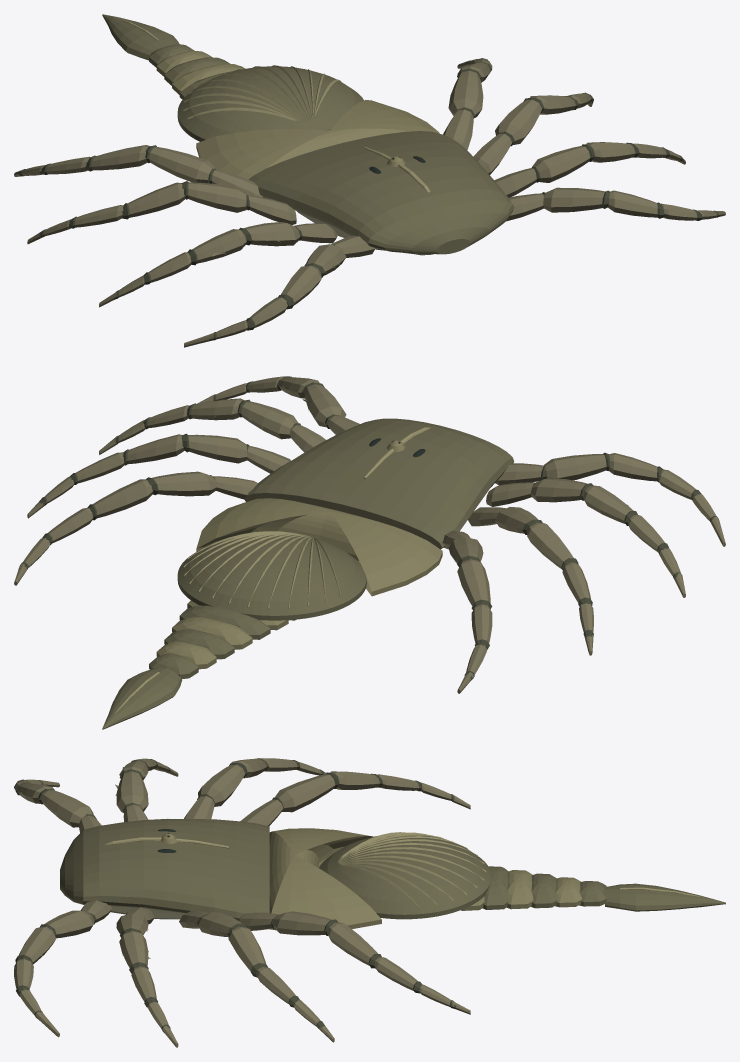
3 views of the same model, one above another, from view 1: azimuth 30°, elevation 25°; view 2: azimuth 150°, elevation 25°; view 3: azimuth 270°, elevation 25° (orthographic). The views are drawn at different scales.
Parts seen in each view (by area): view 1: Prosomal bell shield, T2 circular dorsal plate, T1 sutured leaf epimera, Limb L5 six podomeres, Limb L6 six podomeres, Limb L4 six podomeres, Limb R3 six podomeres, Limb L3 six podomeres, Limb R4 six podomeres, Limb R5 six podomeres, T2 thirteen embedded fan ribs, Limb R6 six podomeres (+4 smaller); view 2: Prosomal bell shield, T2 circular dorsal plate, T1 sutured leaf epimera, Limb R6 six podomeres, Limb R5 six podomeres, Limb L3 six podomeres, Limb L4 six podomeres, Limb R4 six podomeres, Limb L5 six podomeres, Limb L6 six podomeres, Limb R3 six podomeres, T2 thirteen embedded fan ribs (+6 smaller); view 3: Prosomal bell shield, T2 circular dorsal plate, T1 sutured leaf epimera, Limb R6 six podomeres, Limb L6 six podomeres, T2 thirteen embedded fan ribs, Limb R3 six podomeres, Limb R5 six podomeres, Limb R4 six podomeres, Limb L5 six podomeres, Inferred straight hastate telson, Limb L3 six podomeres (+6 smaller).
Boxes of the visible parts, <box> form: Prosomal bell shield: <box>248,131,514,254</box>; T2 circular dorsal plate: <box>177,66,363,141</box>; T1 sutured leaf epimera: <box>196,100,439,179</box>; Limb L5 six podomeres: <box>27,182,296,244</box>; Limb L6 six podomeres: <box>14,145,262,197</box>; Limb L4 six podomeres: <box>99,222,337,307</box>; Limb R3 six podomeres: <box>506,187,725,221</box>; Limb L3 six podomeres: <box>184,235,375,347</box>; Limb R4 six podomeres: <box>494,142,685,197</box>; Limb R5 six podomeres: <box>473,93,593,174</box>; T2 thirteen embedded fan ribs: <box>183,65,340,121</box>; Limb R6 six podomeres: <box>443,58,492,149</box>; Prosomal bell shield: <box>244,418,514,549</box>; T2 circular dorsal plate: <box>177,534,366,620</box>; T1 sutured leaf epimera: <box>196,498,442,596</box>; Limb R6 six podomeres: <box>14,471,257,585</box>; Limb R5 six podomeres: <box>27,434,290,518</box>; Limb L3 six podomeres: <box>495,453,725,546</box>; Limb L4 six podomeres: <box>486,478,685,597</box>; Limb R4 six podomeres: <box>99,398,325,454</box>; Limb L5 six podomeres: <box>468,507,593,655</box>; Limb L6 six podomeres: <box>442,530,492,693</box>; Limb R3 six podomeres: <box>197,376,359,434</box>; T2 thirteen embedded fan ribs: <box>183,531,341,608</box>; Prosomal bell shield: <box>60,818,269,919</box>; T2 circular dorsal plate: <box>319,834,490,919</box>; T1 sutured leaf epimera: <box>269,828,381,930</box>; Limb R6 six podomeres: <box>237,911,470,1014</box>; Limb L6 six podomeres: <box>240,771,470,825</box>; T2 thirteen embedded fan ribs: <box>337,832,486,907</box>; Limb R3 six podomeres: <box>14,900,111,1037</box>; Limb R5 six podomeres: <box>179,910,334,1042</box>; Limb R4 six podomeres: <box>116,907,178,1047</box>; Limb L5 six podomeres: <box>184,758,325,819</box>; Inferred straight hastate telson: <box>605,883,725,911</box>; Limb L3 six podomeres: <box>14,779,101,832</box>.
Bounding box in the file's own units: 0.5218 × 0.07 × 0.5773.
